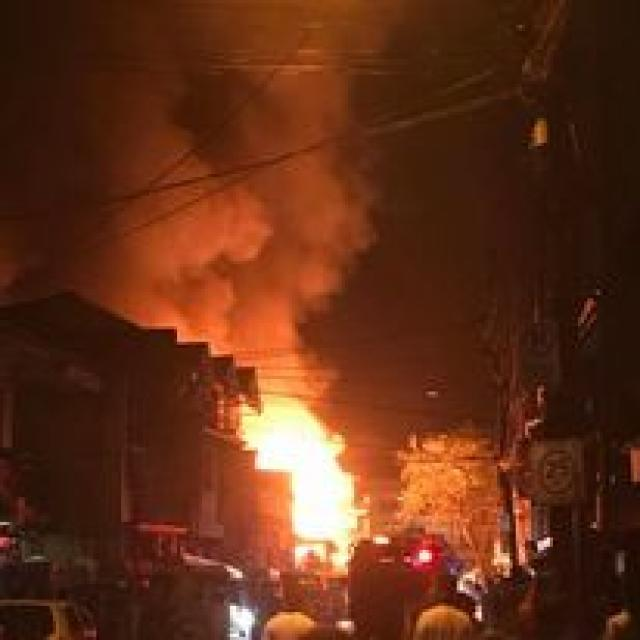Fire: (258, 383, 374, 553)
Smoke: (0, 0, 382, 320)
